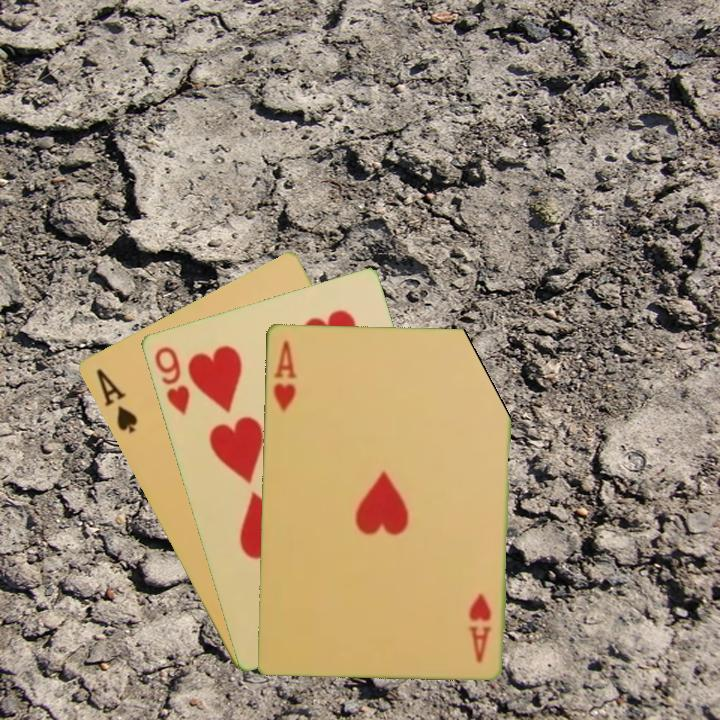9h: (150, 342, 192, 418)
Ah: (270, 336, 299, 414), (466, 590, 494, 665)
As: (91, 365, 140, 437)
